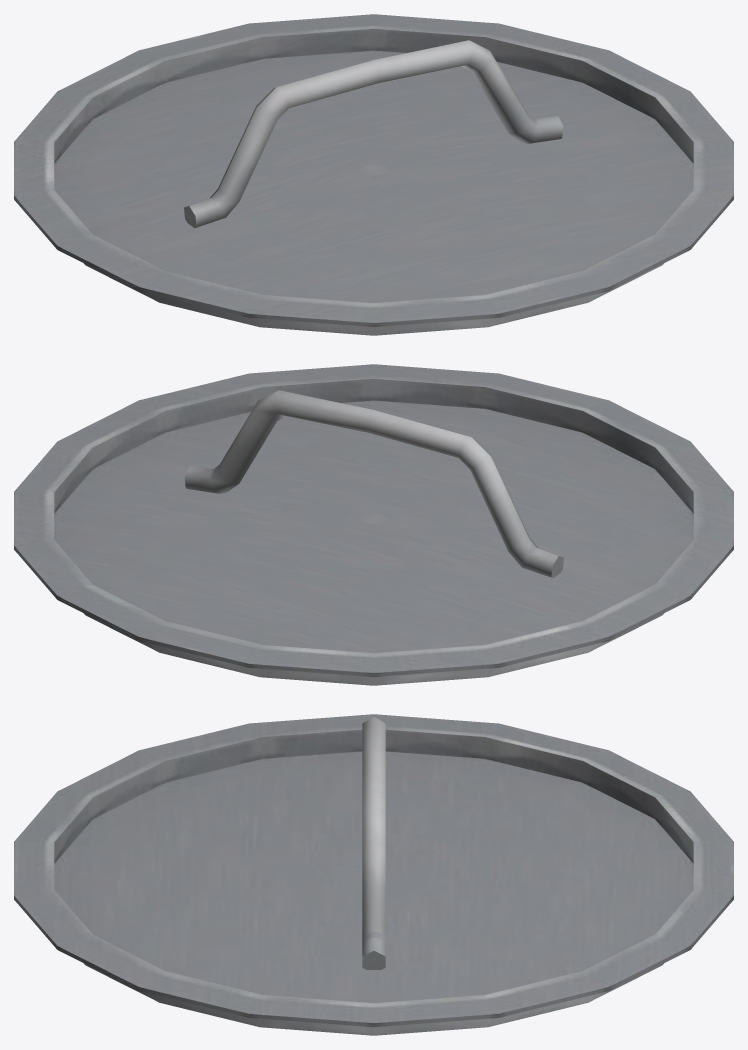
The model's file is SM_Pan_Lid_01.glb.
3 views of the same model, one above another, from view 1: azimuth 30°, elevation 25°; view 2: azimuth 150°, elevation 25°; view 3: azimuth 270°, elevation 25° (orthographic).
Visible parts, largest first — view 1: SM_Pan_Lid_01; view 2: SM_Pan_Lid_01; view 3: SM_Pan_Lid_01.
Boxes of the visible parts, box(x1,y1,x2,y2) form: SM_Pan_Lid_01: box(14, 14, 733, 335); SM_Pan_Lid_01: box(14, 364, 733, 685); SM_Pan_Lid_01: box(14, 714, 733, 1035).
Size of the model in its own units: 0.2097 by 0.0427 by 0.2065.
Materials: 1 (1 with a texture image).
